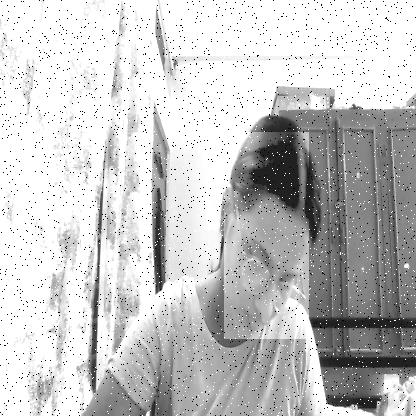Distracted: (224, 132, 309, 339)
